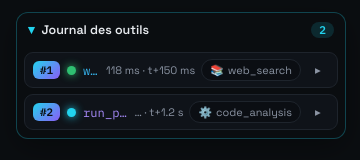
Test: ToolLedger — liste ordonnée des outils exécutés › se replie et se déplie via l'entête
The image size is (360, 160).
Click the button "▾ Journal des outils 2" at [95, 30], box 17,13 -> 345,46
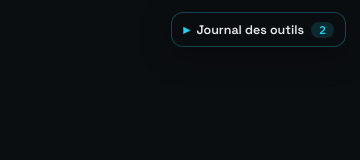
Expected: the button "▸ Journal des outils 2" is collapsed, 172,13 -> 345,46
Expected: the list with class "fledger__list" is gone
Expected: the element with class "fledger--collapsed" is shown, 171,12 -> 346,47
